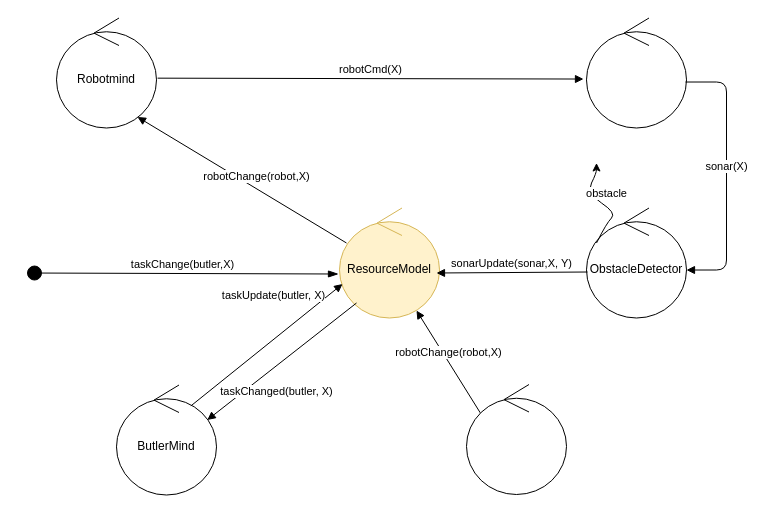
This 765x512 diagram has some shape labels left out. The centre of each missing label's shape, as x and y in pixels:
"BasicRobot" goes at (636,72).
"MovementHandler" goes at (516,439).
